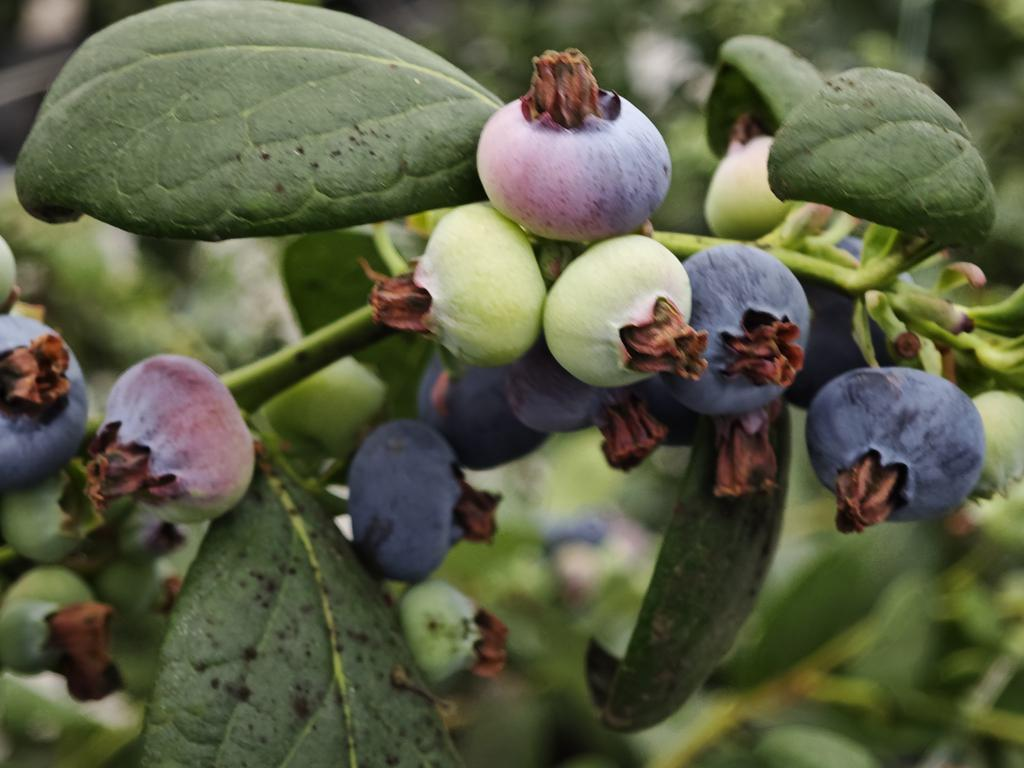RipeBlueBerry: (805, 364, 989, 535), (672, 242, 813, 418)
Semi-RipeBlueBerry: (475, 70, 674, 243), (85, 352, 259, 528)
UnripeBlueBerry: (398, 199, 545, 373), (544, 232, 698, 392)
